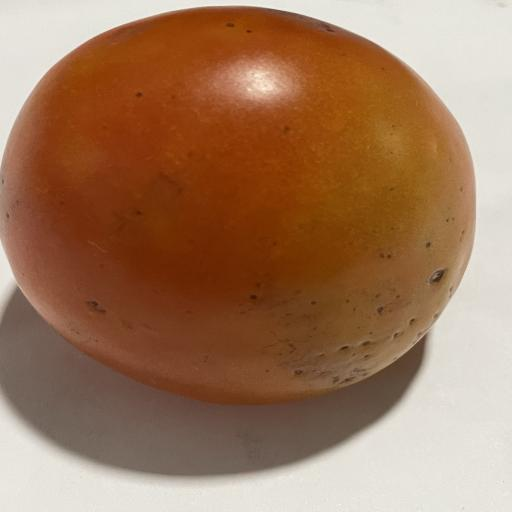ripe: (0, 6, 475, 404)
